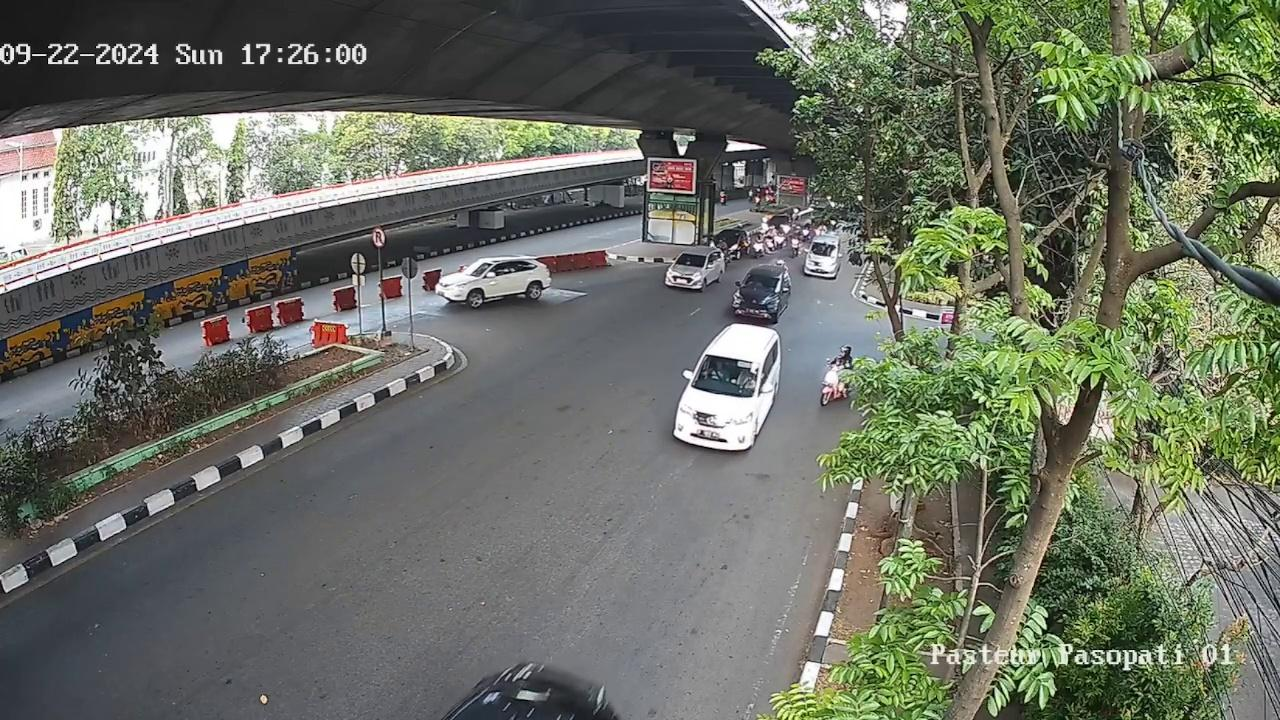pakai: (707, 361, 729, 381)
windshield: (690, 353, 763, 397)
